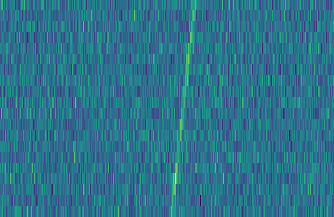signal: (166, 0, 199, 217)
